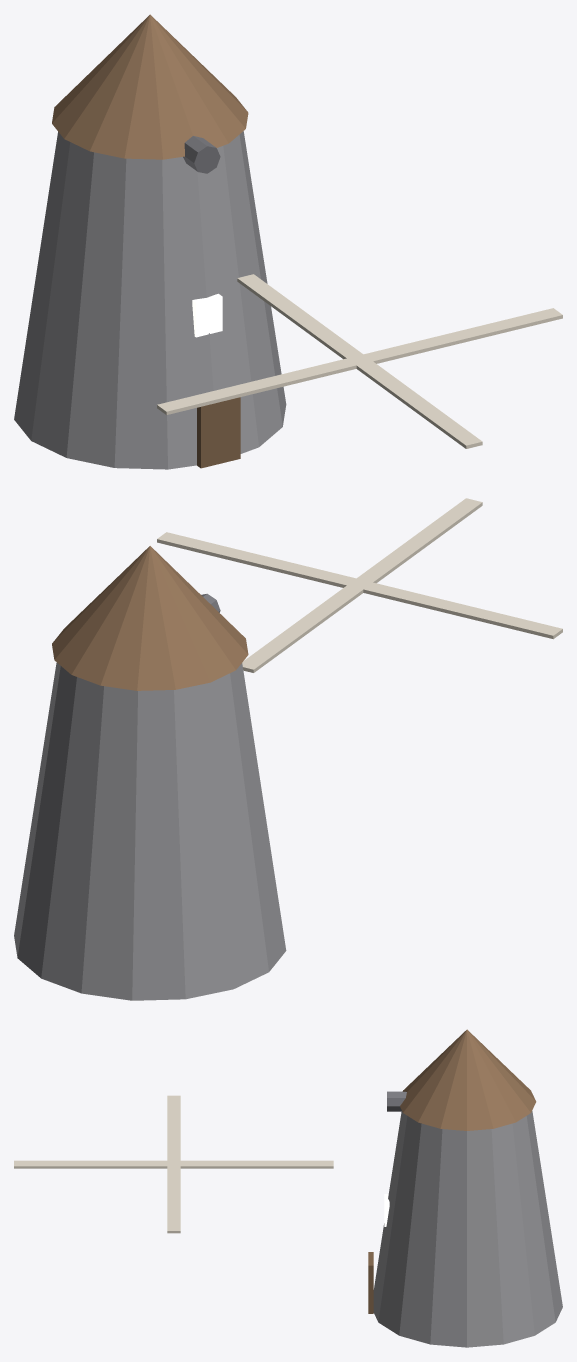
Rendered from windmill.glb.
3 renders of one model, top to bottom at view 1: azimuth 30°, elevation 25°; view 2: azimuth 150°, elevation 25°; view 3: azimuth 270°, elevation 25°, orthographic. The views are drawn at different scales.
Visible parts, largest first — view 1: Tower, Cap, Door, Blade3, Blade1, Blade0, Blade2, Window, RotorHub; view 2: Tower, Cap, Blade3, Blade1, Blade2, Blade0; view 3: Tower, Cap, Blade2, Blade0, Blade1, Blade3.
Boxes of the visible parts, x1,y1,x2,y2 form: Tower: [14, 131, 286, 469]; Cap: [52, 14, 248, 159]; Door: [197, 397, 240, 468]; Blade3: [157, 357, 363, 414]; Blade1: [355, 308, 562, 363]; Blade0: [352, 360, 482, 448]; Blade2: [237, 274, 362, 361]; Window: [192, 293, 222, 337]; RotorHub: [183, 136, 220, 173]; Tower: [14, 662, 286, 1000]; Cap: [52, 546, 248, 690]; Blade3: [356, 581, 562, 639]; Blade1: [157, 532, 363, 587]; Blade2: [242, 582, 367, 672]; Blade0: [352, 498, 482, 585]; Tower: [373, 1111, 562, 1347]; Cap: [400, 1029, 536, 1130]; Blade2: [174, 1160, 333, 1168]; Blade0: [14, 1160, 173, 1168]; Blade1: [167, 1163, 180, 1233]; Blade3: [167, 1095, 180, 1163].
Size of what is drawn, in the model's own units: 12 by 11.5 by 20.6.
